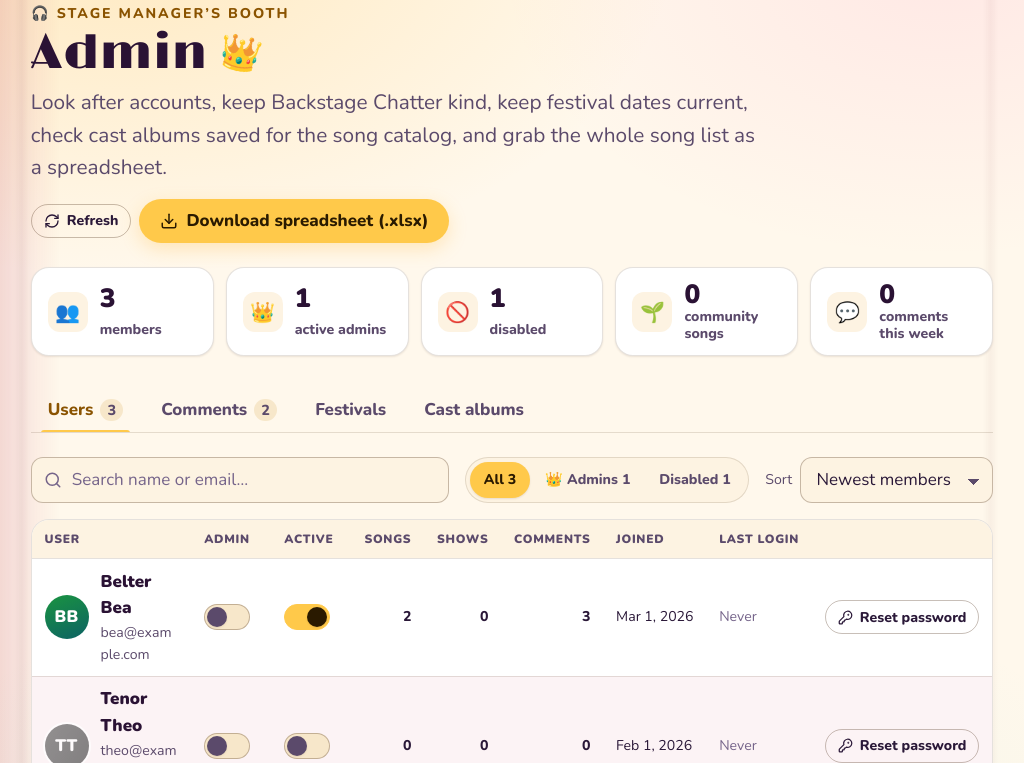
AdminPage › searches and filters users
This screenshot has width=1024, height=763.
Type "theo@" into the search field with test id "user-search" at [240, 480], box [31,457,449,503]
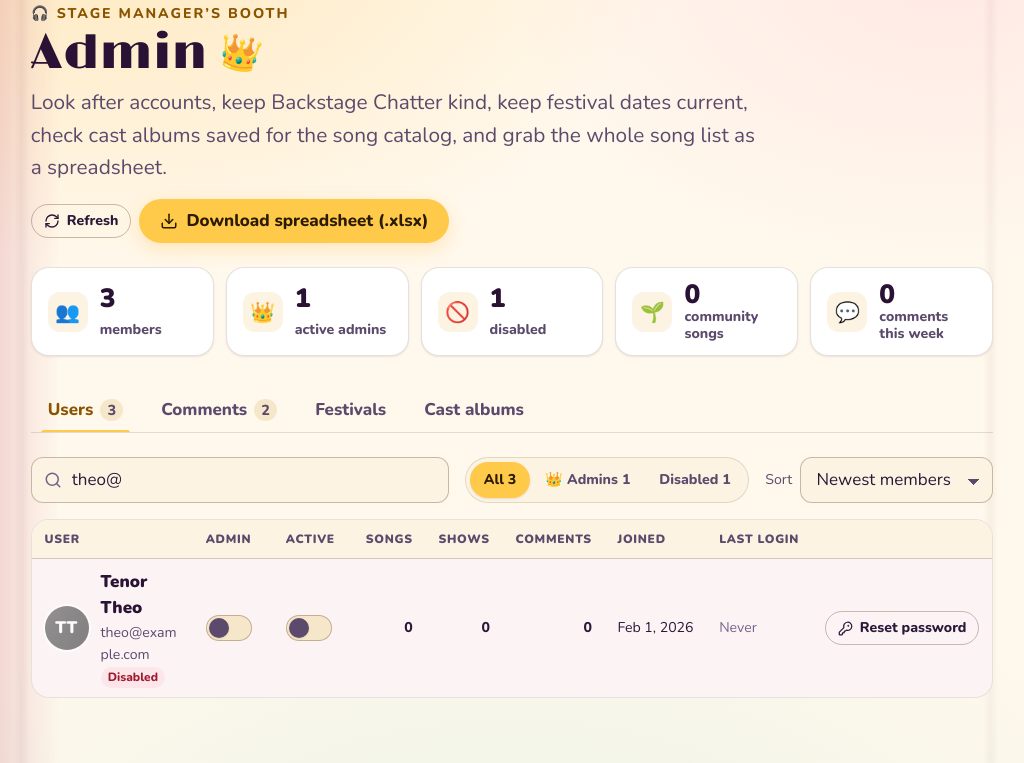
Expected: the number of rows with test id "user-row" is 1, [32,559,992,697]
Clear the search field with test id "user-search" at [240, 480], box [31,457,449,503]
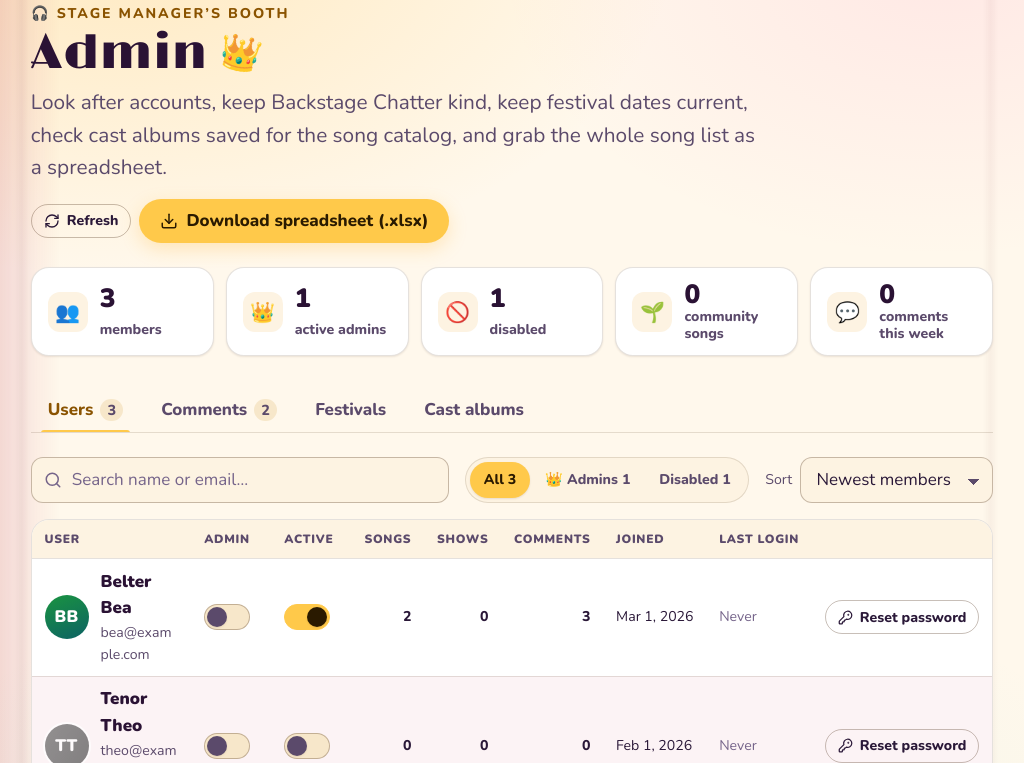
Click the radio button with test id "user-filter-admin" at [588, 480], box [532,462,644,498]
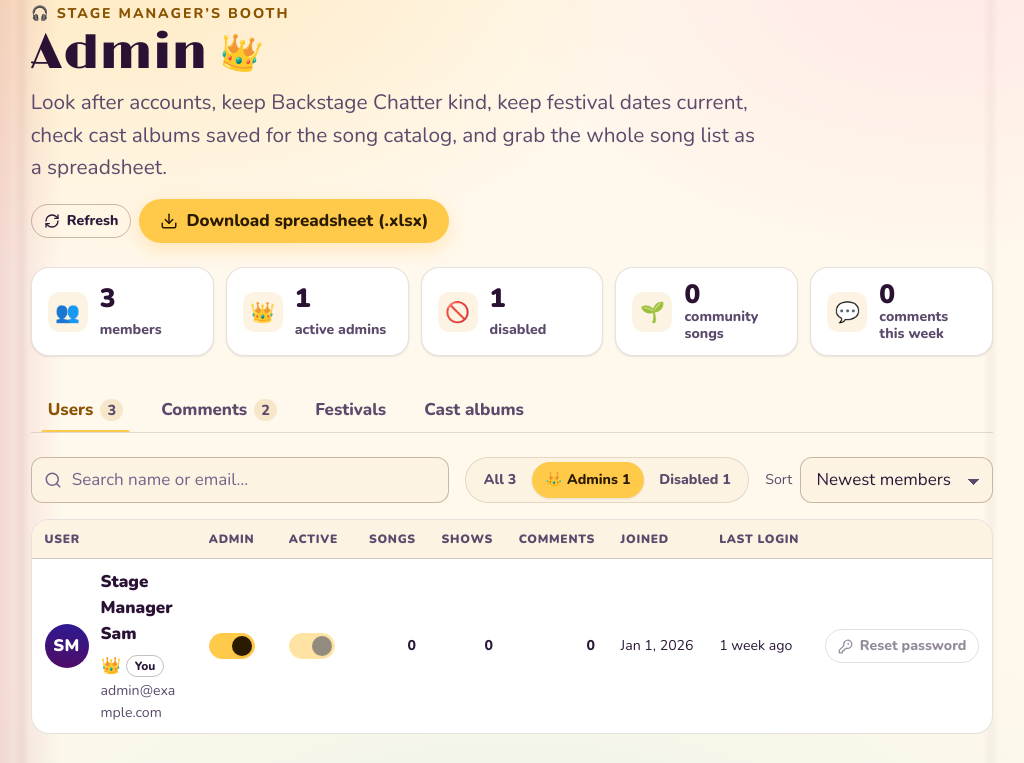
Expected: the row with test id "user-row" shows "Stage Manager Sam", [100,570,173,645]
Expected: the number of rows with test id "user-row" is 1, [32,559,992,733]
